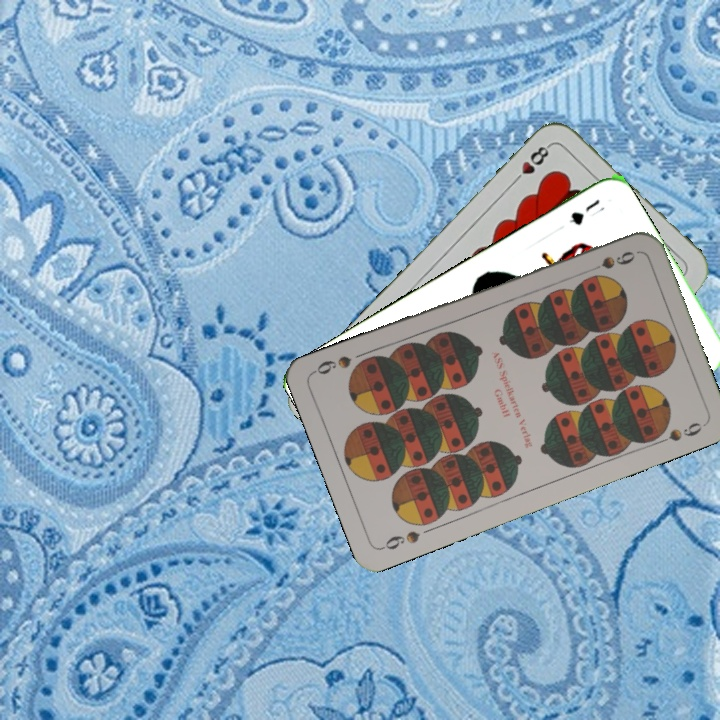GU: (565, 195, 608, 228)
H8: (508, 140, 554, 187)
S9: (582, 247, 638, 274), (377, 526, 423, 553)
